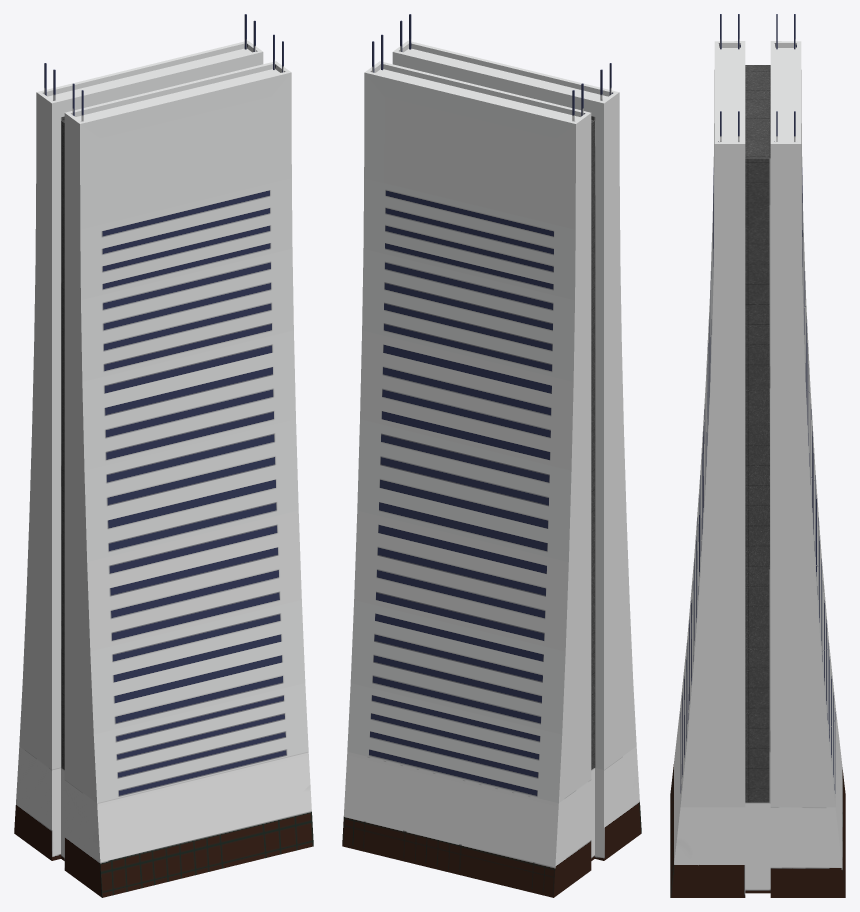
File: building1test.glb
3 renders of one model, left to right at view 1: azimuth 30°, elevation 25°; view 2: azimuth 150°, elevation 25°; view 3: azimuth 270°, elevation 25°, orthographic.
Visible parts, largest first — view 1: polySurface119; view 2: polySurface119; view 3: polySurface119.
Part boxes in pixels (x1,y1,x2,y2): polySurface119: (14, 14, 313, 897); polySurface119: (342, 14, 641, 897); polySurface119: (670, 14, 845, 897).
Bounding box in the file's own units: 7.94 × 28.24 × 5.73.
Materials: 1 (1 with a texture image).
